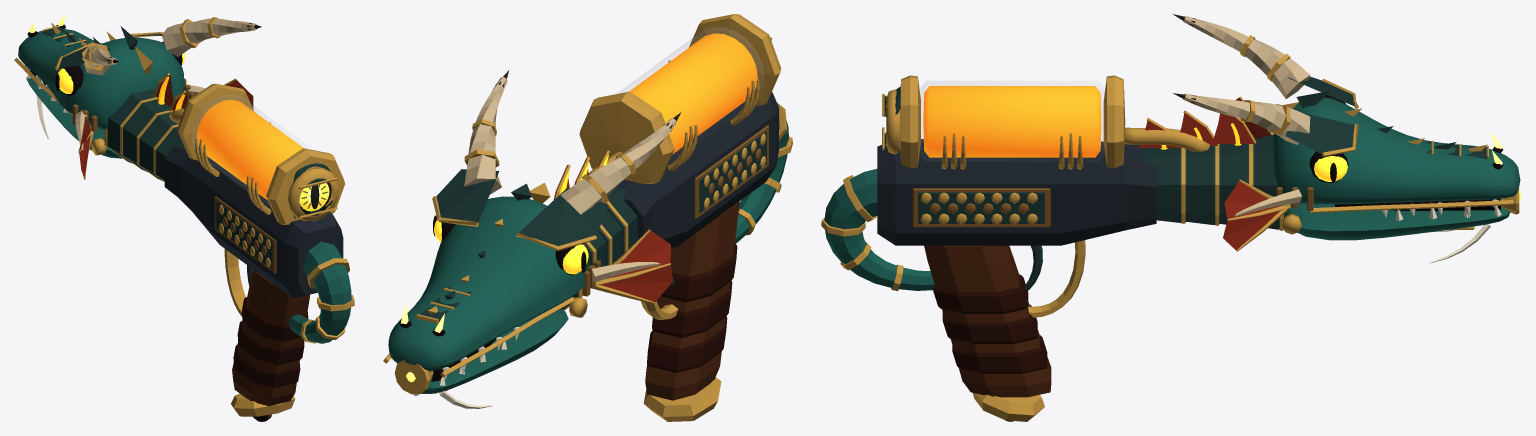
File: wyrmspout.glb
The picture shows the model from 3 angles, left to right: view 1: azimuth 30°, elevation 25°; view 2: azimuth 150°, elevation 25°; view 3: azimuth 270°, elevation 25°; orthographic projection. The views are drawn at different scales.
Parts seen in each view (by area): view 1: Wyrmspout_Brass, Wyrmspout_WyrmSteel, Head_Skull, FuelLiquid, Wyrmspout_ScaleSteel, Grip_Walnut, Wyrmspout_Leather, Wyrmspout_WyrmHide, Head_Horn, Head_Brass, Wyrmspout_DarkBrass, Jaw_Scales (+8 smaller); view 2: Head_Skull, Wyrmspout_Brass, Wyrmspout_WyrmSteel, FuelLiquid, Grip_Walnut, Wyrmspout_Leather, Head_Horn, Head_ScaleSteel, Head_Brass, Wyrmspout_ScaleSteel, Jaw_Scales, Head_Membrane (+6 smaller); view 3: Wyrmspout_WyrmSteel, Head_Skull, Wyrmspout_Brass, FuelLiquid, Wyrmspout_ScaleSteel, Grip_Walnut, Wyrmspout_Leather, Head_Horn, Jaw_Scales, Wyrmspout_WyrmHide, Head_Brass, Head_ScaleSteel (+5 smaller).
Boxes of the visible parts, x1,y1,x2,y2 form: Wyrmspout_Brass: (104,73,354,416); Wyrmspout_WyrmSteel: (164,144,343,298); Head_Skull: (18,29,184,130); FuelLiquid: (197,100,303,200); Wyrmspout_ScaleSteel: (107,87,272,285); Grip_Walnut: (232,269,309,406); Wyrmspout_Leather: (233,297,308,388); Wyrmspout_WyrmHide: (288,241,351,343); Head_Horn: (75,18,257,150); Head_Brass: (14,17,236,179); Wyrmspout_DarkBrass: (214,184,327,419); Jaw_Scales: (26,75,122,158); Head_Skull: (388,196,588,371); Wyrmspout_Brass: (554,14,792,421); Wyrmspout_WyrmSteel: (617,92,778,247); FuelLiquid: (629,33,757,154); Grip_Walnut: (645,201,739,400); Wyrmspout_Leather: (647,243,737,372); Head_Horn: (464,77,676,282); Head_ScaleSteel: (420,169,608,322); Head_Brass: (383,119,670,394); Wyrmspout_ScaleSteel: (561,131,766,309); Jaw_Scales: (422,309,568,393); Head_Membrane: (600,230,672,302); Wyrmspout_WyrmSteel: (877,139,1156,245); Head_Skull: (1273,97,1520,204); Wyrmspout_Brass: (821,75,1283,421); FuelLiquid: (923,86,1101,157); Wyrmspout_ScaleSteel: (918,135,1285,290); Grip_Walnut: (924,245,1051,397); Wyrmspout_Leather: (933,274,1047,373); Head_Horn: (1183,16,1310,216); Jaw_Scales: (1286,203,1510,240); Wyrmspout_WyrmHide: (824,169,934,290); Head_Brass: (1227,35,1519,251); Head_ScaleSteel: (1286,76,1487,158).
Bounding box in the file's own units: 0.1491 × 0.2636 × 0.4559.
